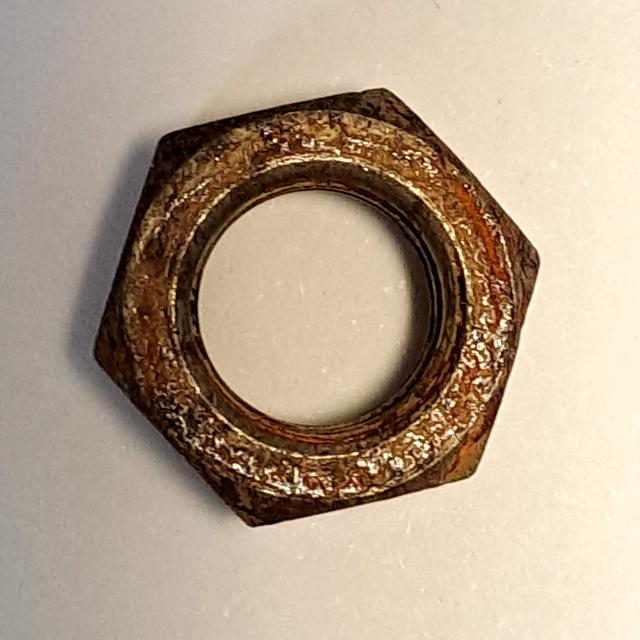Rust: (70, 72, 550, 539)
